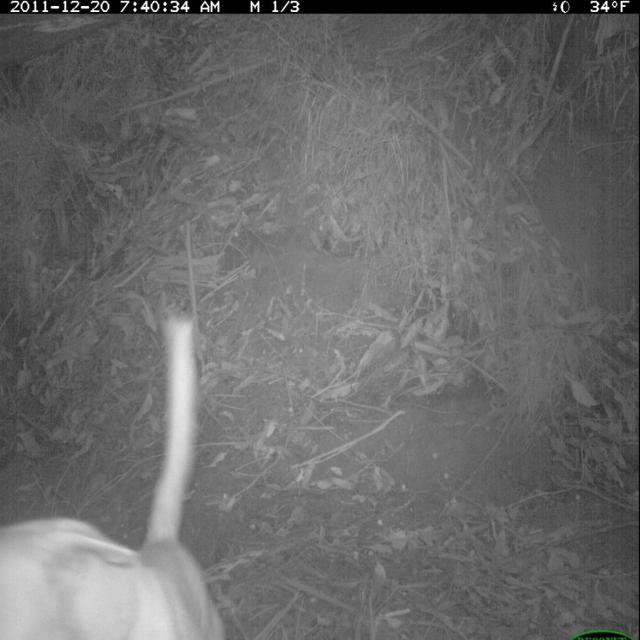dog: (2, 309, 258, 640)
